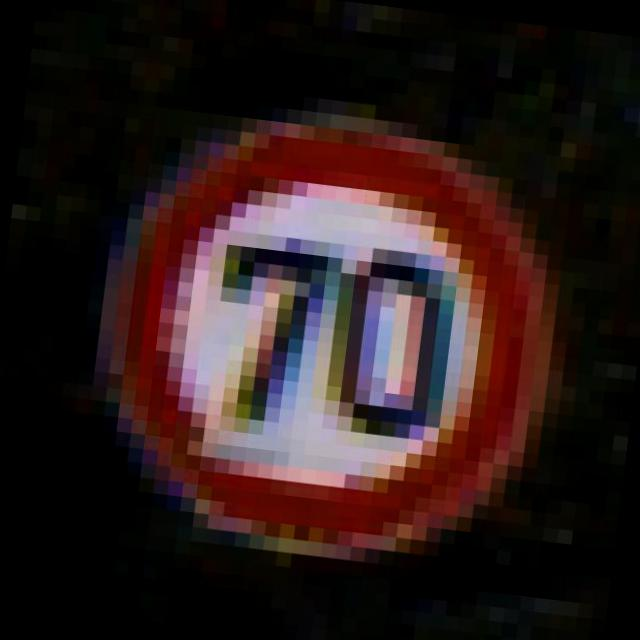Ograniczenie predkosci do 70: (96, 94, 561, 569)
